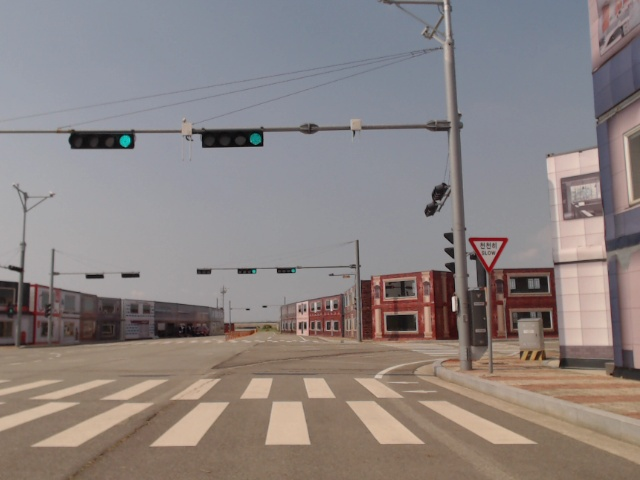straight_green_4: (203, 130, 265, 148), (70, 131, 135, 147), (239, 267, 257, 274), (275, 266, 295, 272)
